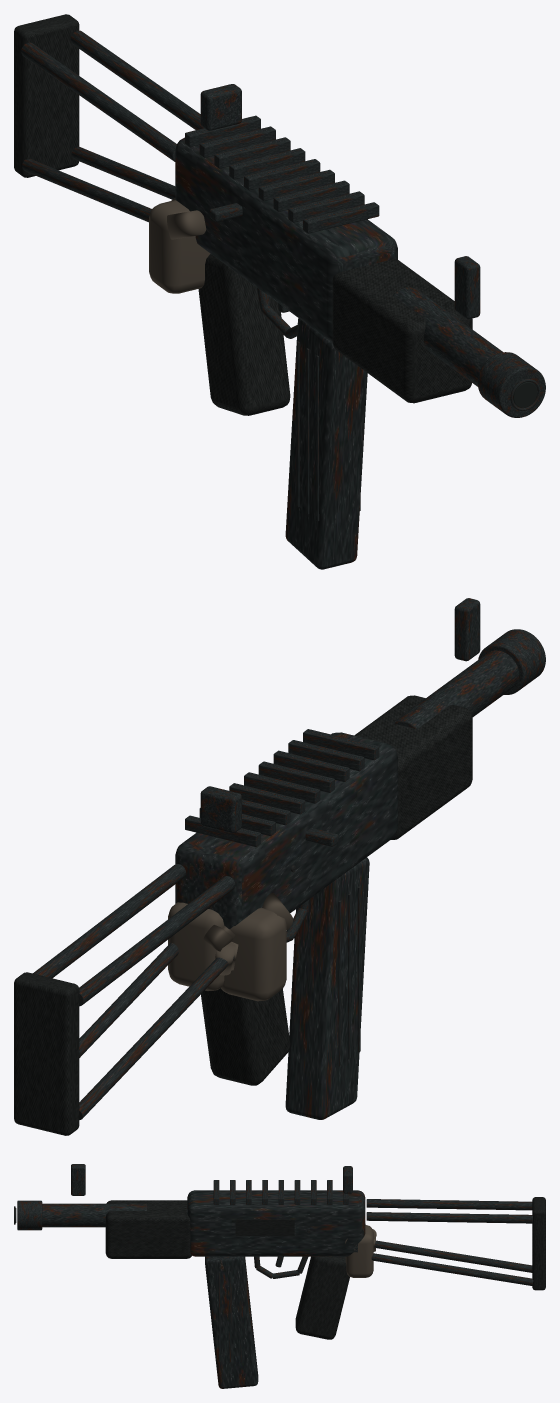
The model's file is smg.glb.
3 views of the same model, one above another, from view 1: azimuth 30°, elevation 25°; view 2: azimuth 150°, elevation 25°; view 3: azimuth 270°, elevation 25° (orthographic). The views are drawn at different scales.
Visible parts, largest first — view 1: Beveled steel receiver, Stamped magazine, Front handguard, Textured compact grip, Stock shoulder pad, Short barrel, gloved palm.008, Folding stock upper, Muzzle sleeve, Folding stock upper.001, Folding stock lower, Rear aperture sight (+14 smaller); view 2: Beveled steel receiver, Stamped magazine, Stock shoulder pad, Front handguard, Textured compact grip, gloved palm.008, Short barrel, Folding stock upper, Folding stock lower, Folding stock upper.001, gloved palm.007, Folding stock lower.001 (+13 smaller); view 3: Beveled steel receiver, Stamped magazine, Front handguard, Textured compact grip, Short barrel, Folding stock upper.001, Folding stock upper, Folding stock lower.001, Folding stock lower, Stock shoulder pad, Ejection recess, gloved palm.007 (+2 smaller).
Part boxes in pixels (<box>): Beveled steel receiver: <box>175,137,397,342</box>; Stamped magazine: <box>285,318,367,569</box>; Front handguard: <box>332,259,472,403</box>; Textured compact grip: <box>198,254,290,415</box>; Stock shoulder pad: <box>14,14,79,177</box>; Short barrel: <box>393,287,502,386</box>; gloved palm.008: <box>149,200,210,293</box>; Folding stock upper: <box>21,42,176,161</box>; Muzzle sleeve: <box>477,352,545,417</box>; Folding stock upper.001: <box>70,30,203,129</box>; Folding stock lower: <box>22,159,151,222</box>; Rear aperture sight: <box>200,84,241,130</box>; Beveled steel receiver: <box>175,732,397,929</box>; Stamped magazine: <box>285,857,369,1119</box>; Stock shoulder pad: <box>14,972,79,1135</box>; Front handguard: <box>354,695,472,839</box>; Textured compact grip: <box>201,988,290,1085</box>; gloved palm.008: <box>220,908,286,1001</box>; Short barrel: <box>393,650,518,728</box>; Folding stock upper: <box>79,876,235,1006</box>; Folding stock lower: <box>79,956,234,1119</box>; Folding stock upper.001: <box>33,864,185,978</box>; gloved palm.007: <box>168,902,224,990</box>; Folding stock lower.001: <box>79,943,178,1057</box>; Beveled steel receiver: <box>187,1190,365,1256</box>; Stamped magazine: <box>205,1256,258,1388</box>; Front handguard: <box>105,1200,191,1258</box>; Textured compact grip: <box>295,1256,349,1339</box>; Short barrel: <box>42,1203,146,1227</box>; Folding stock upper.001: <box>366,1212,532,1223</box>; Folding stock upper: <box>366,1199,532,1210</box>; Folding stock lower.001: <box>371,1253,533,1285</box>; Folding stock lower: <box>375,1240,532,1272</box>; Stock shoulder pad: <box>532,1197,545,1290</box>; Ejection recess: <box>235,1219,294,1235</box>; gloved palm.007: <box>345,1225,373,1277</box>.
Bounding box in the file's own units: 0.102 × 0.389 × 0.8543.
Materials: 4 (2 with a texture image).
